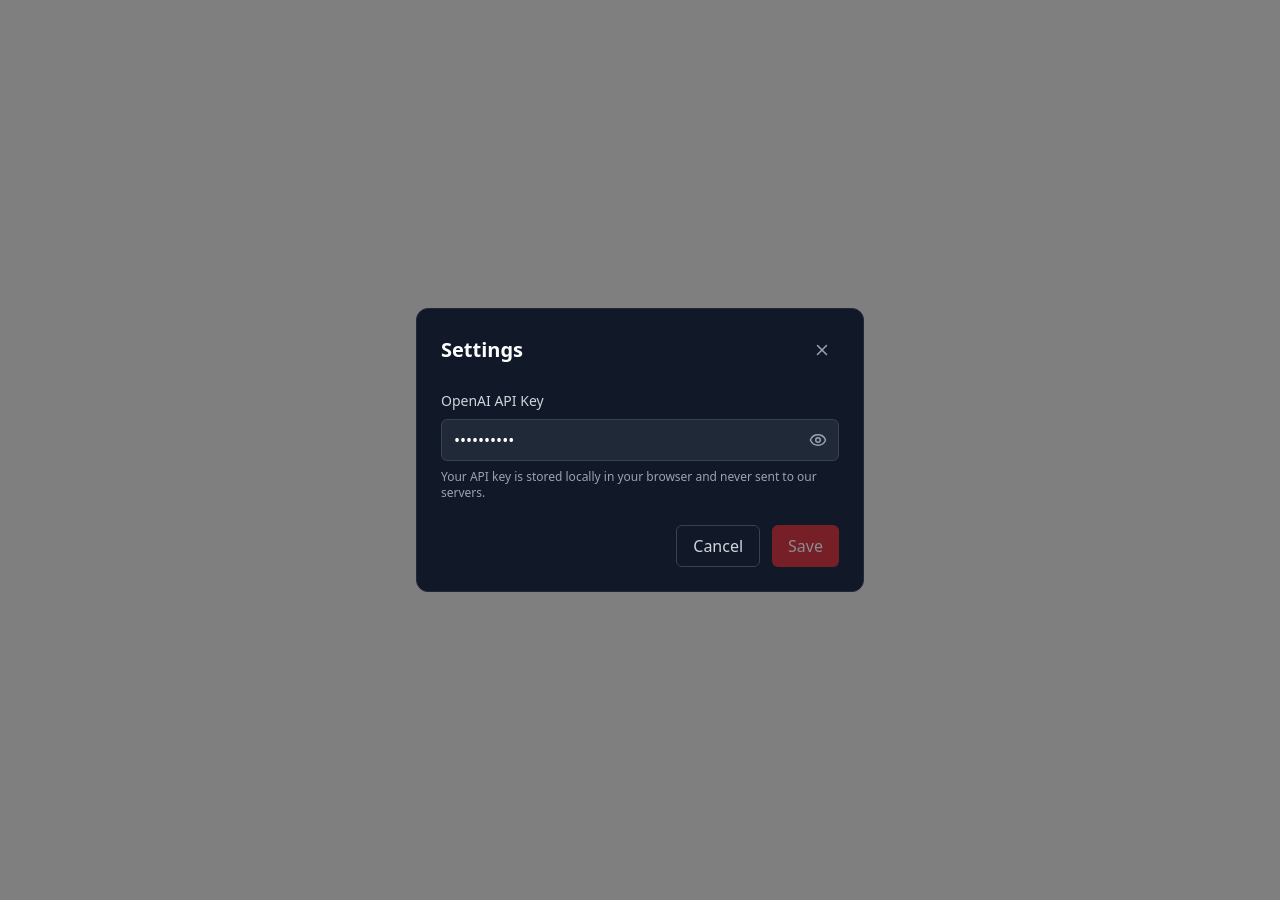
Settings › enables save button when API key is changed
Type "sk-newkey" into the password field labelled "OpenAI API Key" at point(640, 440), box [441,419,839,461]
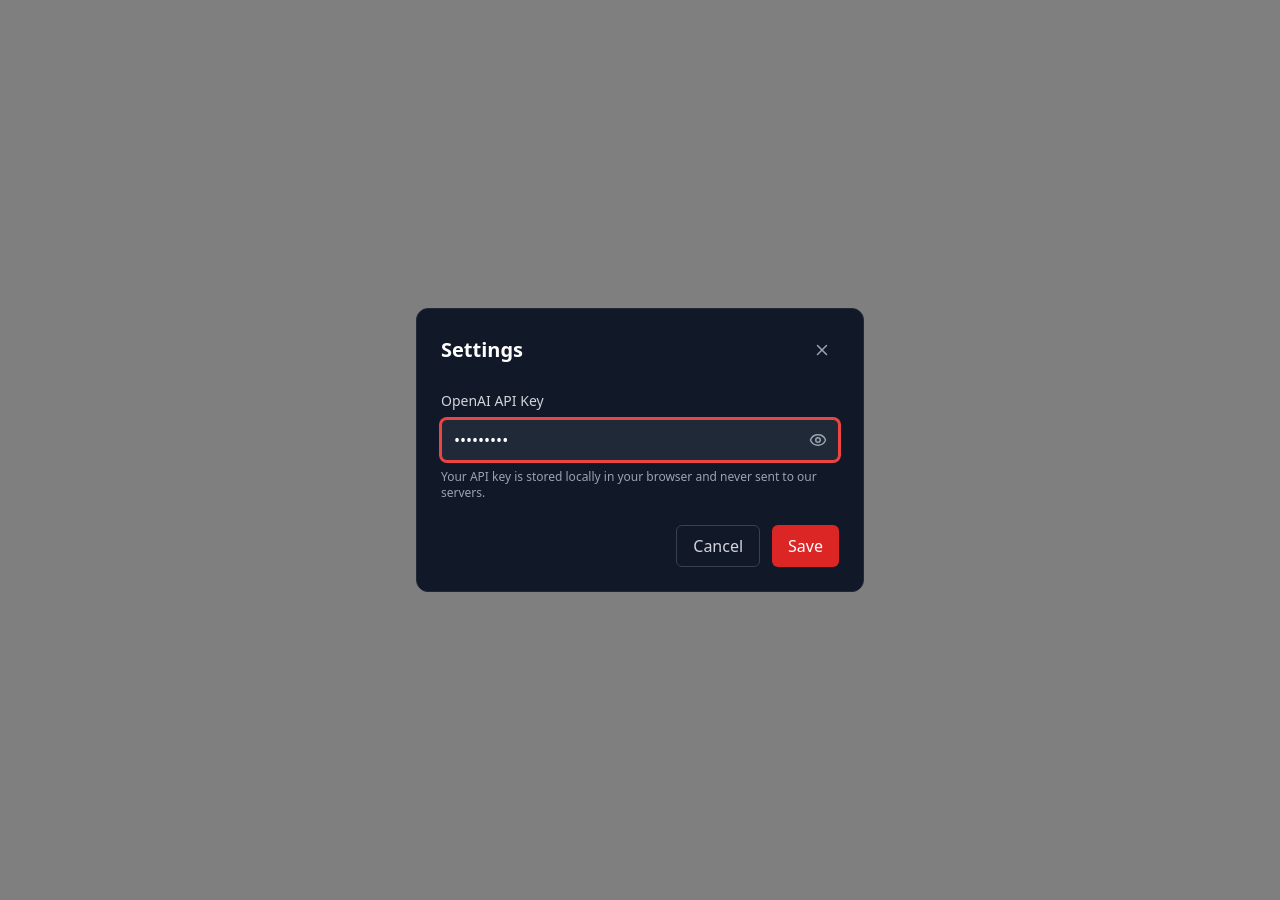
Now the button "Save" is enabled, box [772,525,839,567]
